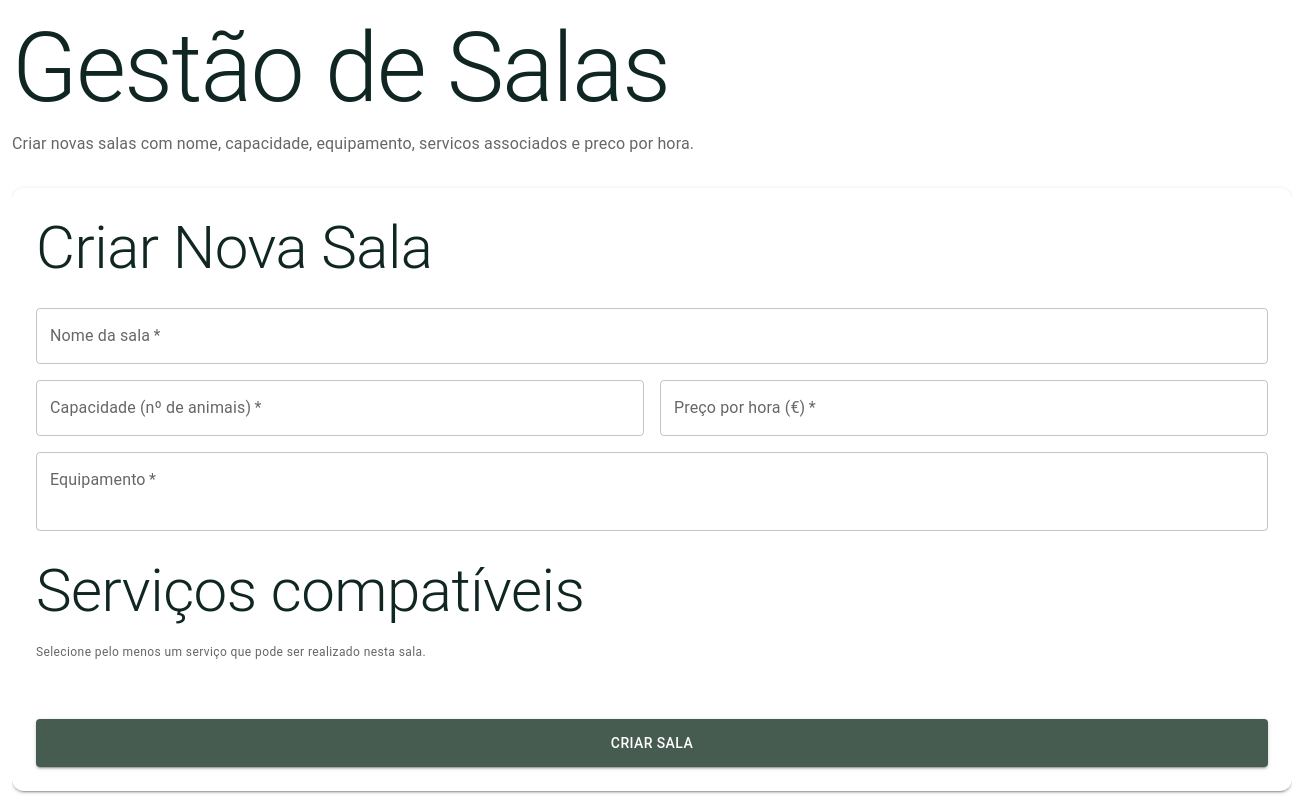
Test: Salas page › mostra erro quando nome está vazio
expect the heading "Gestão de Salas" is shown: met, box 12,12 -> 669,124
Click the button "Criar Sala": (652, 743) 36,719 -> 1268,767
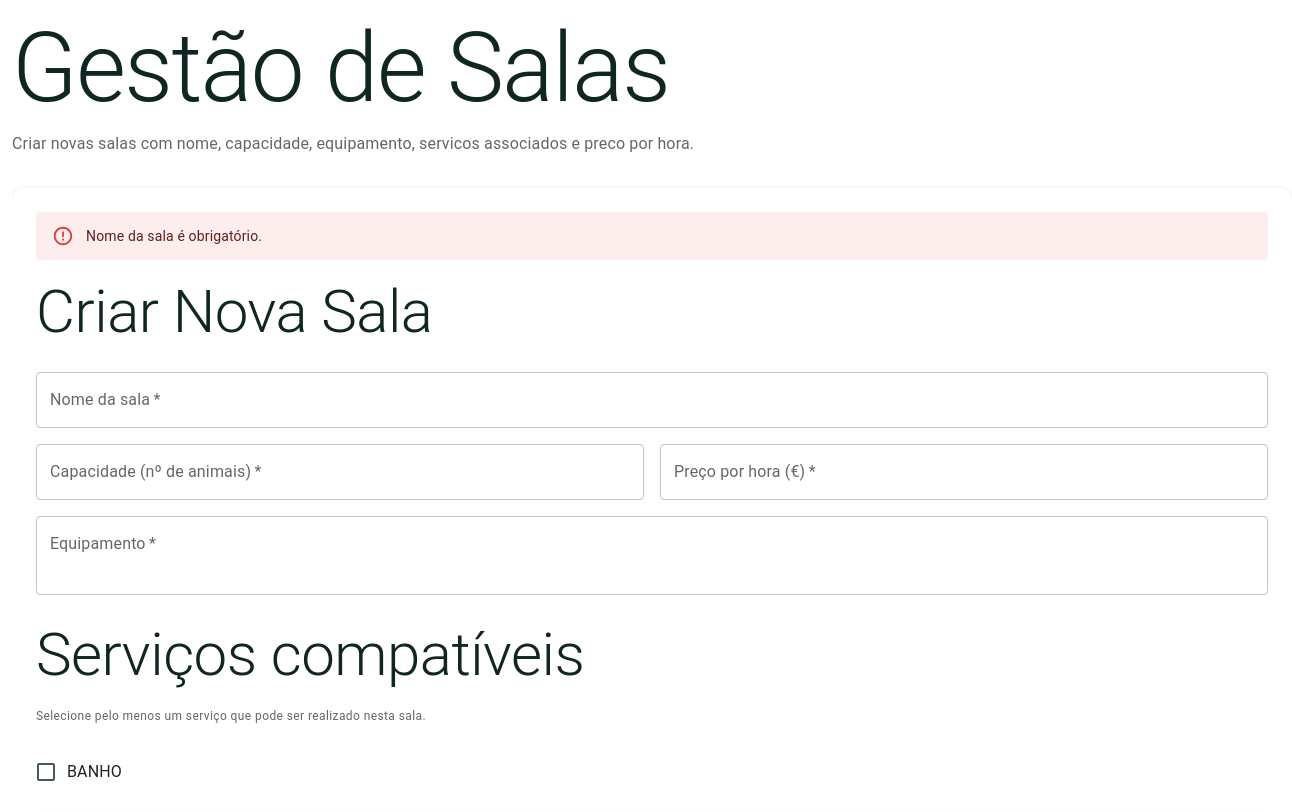
expect the text "Nome da sala é obrigatório." is shown: met, box 86,228 -> 262,244
